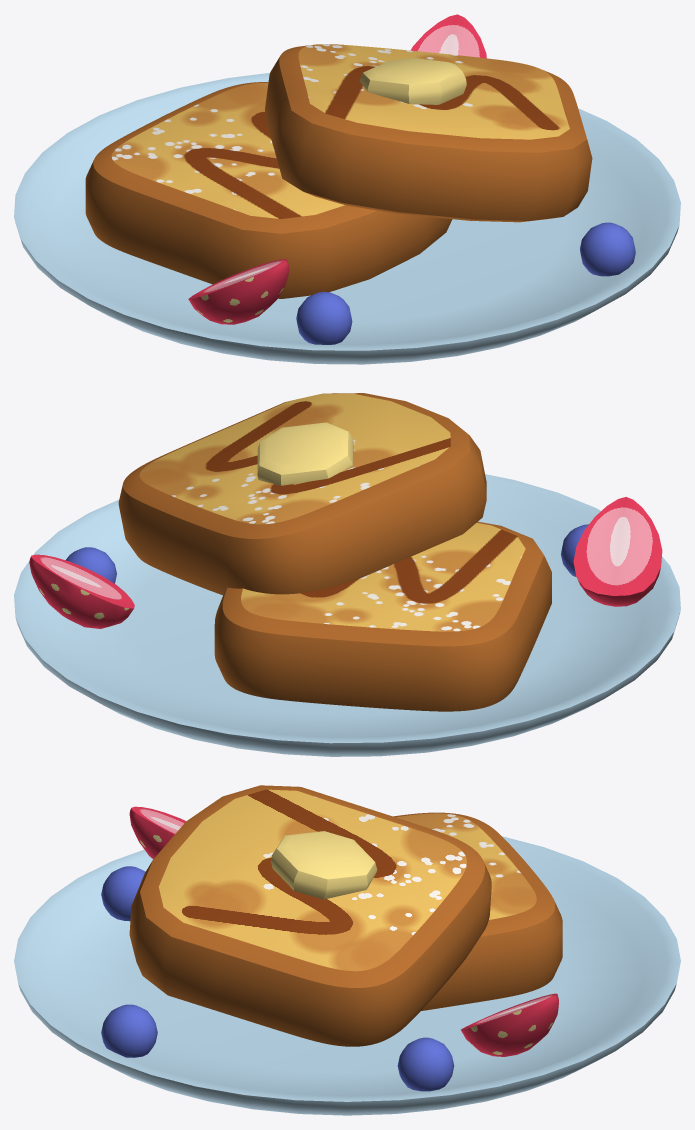
Rendered from FrenchToast.glb.
The picture shows the model from 3 angles, top to bottom: view 1: azimuth 30°, elevation 25°; view 2: azimuth 150°, elevation 25°; view 3: azimuth 270°, elevation 25°; orthographic projection.
Parts seen in each view (by area): view 1: FrenchToast; view 2: FrenchToast; view 3: FrenchToast.
Boxes of the visible parts, x1,y1,x2,y2 form: FrenchToast: [14, 14, 680, 364]; FrenchToast: [14, 393, 680, 756]; FrenchToast: [14, 785, 680, 1115].
Bounding box in the file's own units: 1.53 × 0.4799 × 1.53.
Materials: 7 (7 with a texture image).
